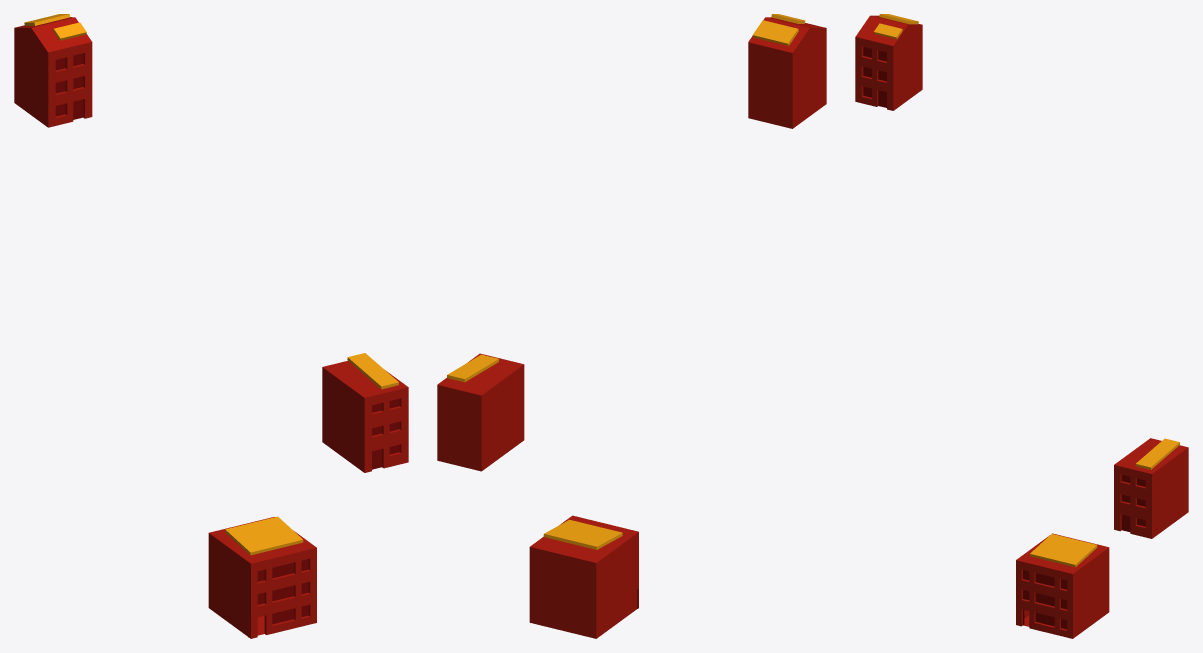
Rendered from BinaGrup14.gltf.
3 renders of one model, left to right at view 1: azimuth 30°, elevation 25°; view 2: azimuth 150°, elevation 25°; view 3: azimuth 330°, elevation 25°, orthographic. The views are drawn at different scales.
Parts seen in each view (by area): view 1: Building_048.003, Building_054.003, Building_030.003, Building_048_RoofCap_0.001, Building_048.005, Building_054_RoofCap_0.001, Building_030.005; view 2: Building_048.003, Building_054.003, Building_030.003, Building_048_RoofCap_0.001, Building_030_RoofCap_1.001, Building_054_RoofCap_0.001; view 3: Building_048.003, Building_054.003, Building_030.003, Building_048_RoofCap_0.001, Building_048.005, Building_054_RoofCap_0.001.
Boxes of the visible parts, box(x1,y1,x2,y2) form: Building_048.003: box(208, 517, 316, 638); Building_054.003: box(322, 361, 408, 472); Building_030.003: box(14, 17, 92, 127); Building_048_RoofCap_0.001: box(225, 516, 303, 555); Building_048.005: box(257, 559, 308, 624); Building_054_RoofCap_0.001: box(347, 353, 398, 389); Building_030.005: box(55, 53, 83, 116); Building_048.003: box(529, 515, 638, 638); Building_054.003: box(437, 353, 524, 471); Building_030.003: box(748, 17, 826, 128); Building_048_RoofCap_0.001: box(543, 519, 622, 549); Building_030_RoofCap_1.001: box(752, 20, 798, 45); Building_054_RoofCap_0.001: box(447, 354, 498, 382); Building_048.003: box(1016, 533, 1109, 638); Building_054.003: box(1114, 438, 1188, 538); Building_030.003: box(855, 15, 922, 110); Building_048_RoofCap_0.001: box(1030, 534, 1097, 567); Building_048.005: box(1023, 570, 1067, 629); Building_054_RoofCap_0.001: box(1135, 438, 1179, 469).
Bounding box in the file's own units: 0.2609 × 0.4537 × 0.0543.
